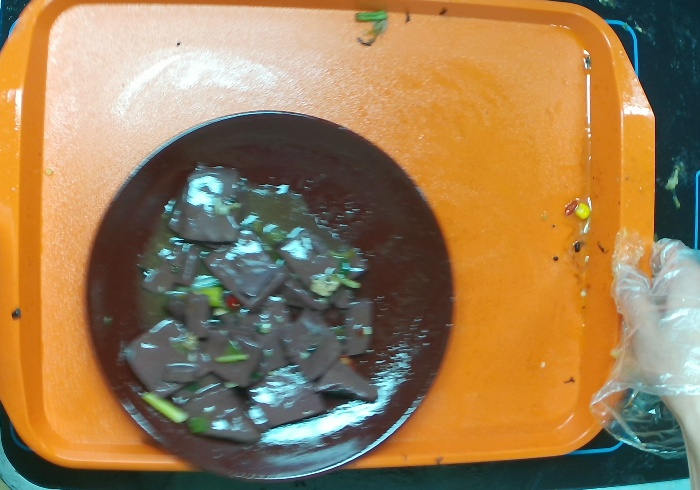HZYJPL-Ka_Fei_Yuan_Pan: (79, 108, 457, 482)
